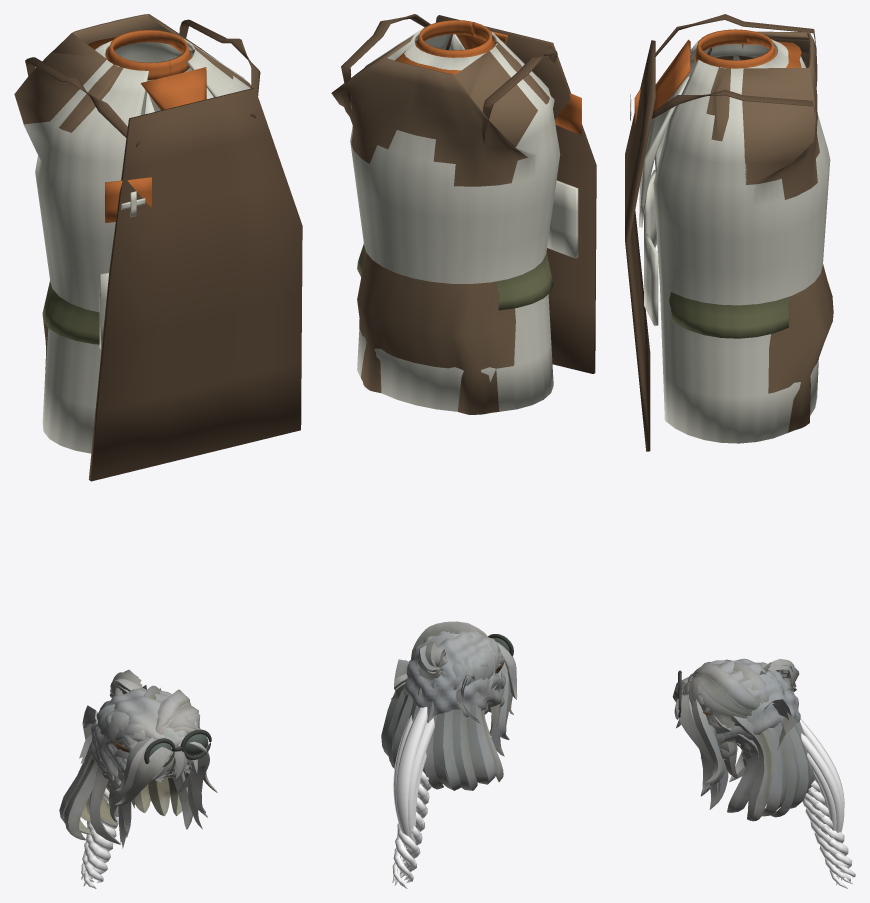
File: looks-194.glb
The picture shows the model from 3 angles, left to right: view 1: azimuth 30°, elevation 25°; view 2: azimuth 150°, elevation 25°; view 3: azimuth 270°, elevation 25°; orthographic projection. The views are drawn at different scales.
Parts seen in each view (by area): view 1: dress-ivo__Worn leather apron, dress-lia__Medical canvas, dress-gui__Gui worn brown coat, hair-female-7__Dante Hair textured MI_Hair_2.002, dress-nara__Nara amber neckcloth, hair-female-6__Dante Hair textured MI_Hair_1.002, hair-male-7, dress-nara__Field olive canvas, hair-female-4__Dante Hair textured MI_Hair_1.001, hair-male-5__Dante Hair textured MI_Hair_2.002, hair-male-8__Dante Hair fibers, dress-lia__Nara amber neckcloth (+4 smaller); view 2: dress-lia__Medical canvas, dress-gui__Gui worn brown coat, dress-ivo__Worn leather apron, hair-female-7__Dante Hair textured MI_Hair_2.002, hair-female-6__Dante Hair textured MI_Hair_1.002, hair-female-5__Dante Hair fibers, dress-nara__Nara amber neckcloth, hair-male-7, dress-nara__Field olive canvas, hair-female-8__Dante Hair fibers, hair-female-4__Dante Hair textured MI_Hair_1.001, hair-female-5__Dante Hair textured MI_Hair_2.002 (+4 smaller); view 3: dress-lia__Medical canvas, dress-gui__Gui worn brown coat, dress-ivo__Worn leather apron, hair-male-7, hair-female-7__Dante Hair textured MI_Hair_2.002, dress-nara__Field olive canvas, dress-nara__Nara amber neckcloth, hair-female-6__Dante Hair textured MI_Hair_1.002, hair-female-4__Dante Hair textured MI_Hair_1.001, hair-female-5__Dante Hair fibers, hair-male-8__Dante Hair fibers, hair-female-8__Dante Hair fibers (+4 smaller).
Part boxes in pixels (x1,y1,x2,y2): dress-ivo__Worn leather apron: [25, 19, 302, 481]; dress-lia__Medical canvas: [23, 39, 250, 453]; dress-gui__Gui worn brown coat: [14, 14, 250, 374]; hair-female-7__Dante Hair textured MI_Hair_2.002: [59, 727, 217, 844]; dress-nara__Nara amber neckcloth: [88, 30, 206, 110]; hair-female-6__Dante Hair textured MI_Hair_1.002: [89, 688, 196, 780]; hair-male-7: [63, 736, 216, 844]; dress-nara__Field olive canvas: [42, 281, 99, 344]; hair-female-4__Dante Hair textured MI_Hair_1.001: [95, 685, 199, 741]; hair-male-5__Dante Hair textured MI_Hair_2.002: [80, 710, 207, 848]; hair-male-8__Dante Hair fibers: [83, 788, 118, 888]; dress-lia__Nara amber neckcloth: [105, 177, 151, 222]; dress-lia__Medical canvas: [350, 28, 578, 411]; dress-gui__Gui worn brown coat: [331, 27, 549, 414]; dress-ivo__Worn leather apron: [341, 14, 596, 373]; hair-female-7__Dante Hair textured MI_Hair_2.002: [384, 641, 517, 788]; hair-female-6__Dante Hair textured MI_Hair_1.002: [404, 630, 503, 717]; hair-female-5__Dante Hair fibers: [393, 707, 434, 840]; dress-nara__Nara amber neckcloth: [395, 20, 507, 74]; hair-male-7: [381, 643, 515, 790]; dress-nara__Field olive canvas: [357, 243, 553, 310]; hair-female-8__Dante Hair fibers: [392, 771, 429, 885]; hair-female-4__Dante Hair textured MI_Hair_1.001: [411, 621, 499, 689]; hair-female-5__Dante Hair textured MI_Hair_2.002: [391, 659, 507, 754]; dress-lia__Medical canvas: [630, 39, 830, 443]; dress-gui__Gui worn brown coat: [706, 31, 833, 432]; dress-ivo__Worn leather apron: [625, 14, 815, 451]; hair-male-7: [673, 681, 815, 819]; hair-female-7__Dante Hair textured MI_Hair_2.002: [672, 674, 807, 821]; dress-nara__Field olive canvas: [669, 292, 791, 338]; dress-nara__Nara amber neckcloth: [653, 29, 801, 111]; hair-female-6__Dante Hair textured MI_Hair_1.002: [684, 658, 800, 759]; hair-female-4__Dante Hair textured MI_Hair_1.001: [691, 659, 784, 724]; hair-female-5__Dante Hair fibers: [800, 718, 844, 832]; hair-male-8__Dante Hair fibers: [802, 787, 850, 888]; hair-female-8__Dante Hair fibers: [807, 780, 855, 884].
Size of the model in its own units: 0.44 by 1.76 by 0.4385.
Materials: 10 (2 with a texture image).
